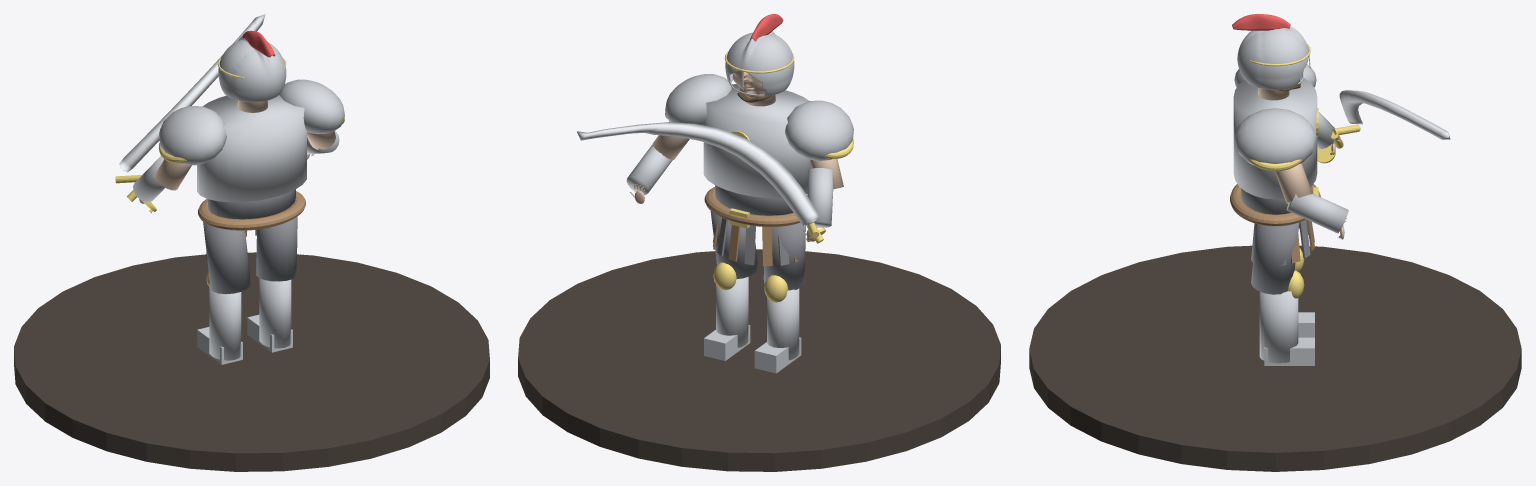
The model's file is warrior-lod0-high.glb.
3 views of the same model, side by side, from view 1: azimuth 30°, elevation 25°; view 2: azimuth 150°, elevation 25°; view 3: azimuth 270°, elevation 25° (orthographic). The views are drawn at different scales.
Visible parts, largest first — view 1: Warrior_Floor_Stone_Mat_Node, Warrior_Steel_Armor_Mat_Node, Warrior_Dark_Iron_Mat_Node, Warrior_Talwar_Blade_Mat_Node, Warrior_Leather_Mat_Node, Warrior_Skin_Mat_Node; view 2: Warrior_Floor_Stone_Mat_Node, Warrior_Steel_Armor_Mat_Node, Warrior_Dark_Iron_Mat_Node, Warrior_Talwar_Blade_Mat_Node, Warrior_Leather_Mat_Node, Warrior_Skin_Mat_Node, Warrior_Gold_Trim_Mat_Node; view 3: Warrior_Floor_Stone_Mat_Node, Warrior_Steel_Armor_Mat_Node, Warrior_Dark_Iron_Mat_Node, Warrior_Talwar_Blade_Mat_Node, Warrior_Leather_Mat_Node, Warrior_Skin_Mat_Node, Warrior_Gold_Trim_Mat_Node, Warrior_Crimson_Cape_Mat_Node, Warrior_Talwar_Brass_Mat_Node.
Part boxes in pixels (left/top/right/bottom): Warrior_Floor_Stone_Mat_Node: left=14, top=252, right=489, bottom=471; Warrior_Steel_Armor_Mat_Node: left=133, top=36, right=344, bottom=364; Warrior_Dark_Iron_Mat_Node: left=203, top=189, right=297, bottom=294; Warrior_Talwar_Blade_Mat_Node: left=119, top=14, right=265, bottom=172; Warrior_Leather_Mat_Node: left=198, top=191, right=305, bottom=259; Warrior_Skin_Mat_Node: left=139, top=100, right=335, bottom=203; Warrior_Floor_Stone_Mat_Node: left=518, top=249, right=1000, bottom=471; Warrior_Steel_Armor_Mat_Node: left=626, top=31, right=853, bottom=373; Warrior_Dark_Iron_Mat_Node: left=710, top=185, right=805, bottom=290; Warrior_Talwar_Blade_Mat_Node: left=577, top=122, right=819, bottom=225; Warrior_Leather_Mat_Node: left=704, top=187, right=800, bottom=266; Warrior_Skin_Mat_Node: left=629, top=71, right=843, bottom=241; Warrior_Gold_Trim_Mat_Node: left=665, top=51, right=853, bottom=302; Warrior_Floor_Stone_Mat_Node: left=1029, top=245, right=1521, bottom=471; Warrior_Steel_Armor_Mat_Node: left=1233, top=26, right=1348, bottom=365; Warrior_Dark_Iron_Mat_Node: left=1241, top=188, right=1314, bottom=294; Warrior_Talwar_Blade_Mat_Node: left=1339, top=90, right=1450, bottom=139; Warrior_Leather_Mat_Node: left=1230, top=184, right=1320, bottom=263; Warrior_Skin_Mat_Node: left=1258, top=61, right=1346, bottom=239; Warrior_Gold_Trim_Mat_Node: left=1248, top=44, right=1318, bottom=298; Warrior_Crimson_Cape_Mat_Node: left=1232, top=14, right=1290, bottom=30; Warrior_Talwar_Brass_Mat_Node: left=1317, top=124, right=1360, bottom=163.
Bounding box in the file's own units: 2.8 × 2.22 × 2.8.
